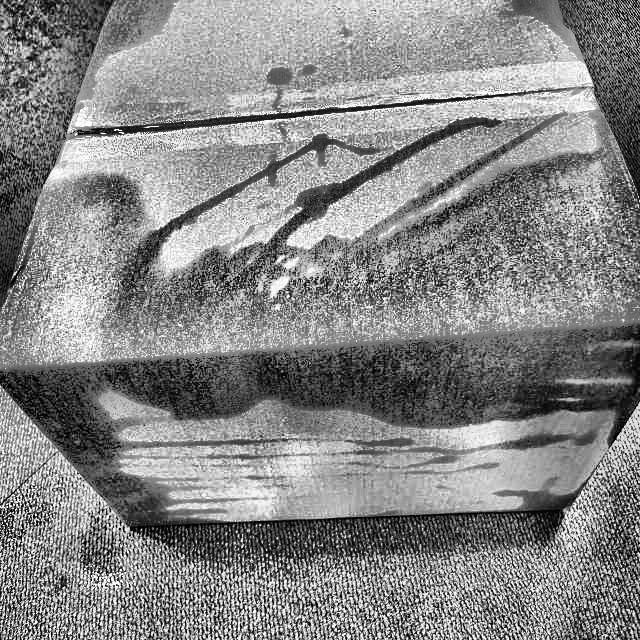box: (0, 0, 640, 542)
wet: (255, 146, 640, 424), (0, 156, 244, 398), (22, 399, 220, 531), (73, 4, 188, 94), (491, 0, 585, 79)
